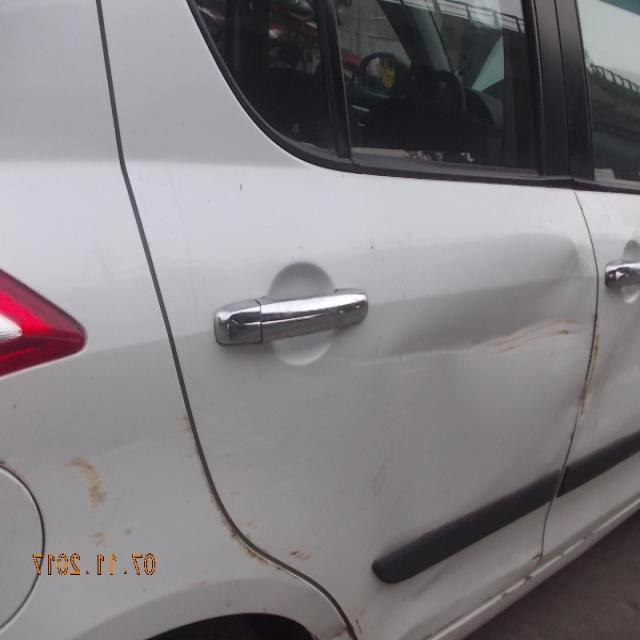minor: (580, 310, 623, 434), (57, 453, 110, 535), (489, 562, 540, 609), (414, 565, 456, 603), (296, 551, 308, 561)
moderate: (366, 233, 596, 393), (214, 499, 301, 576)
